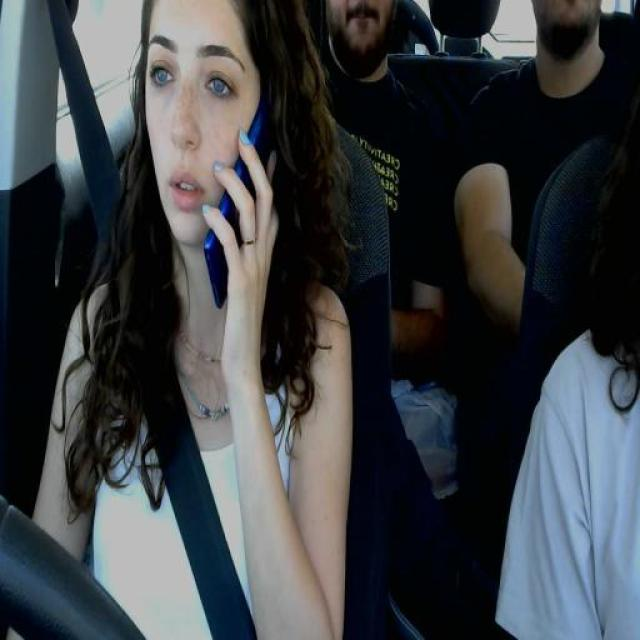phone: (205, 100, 287, 304)
